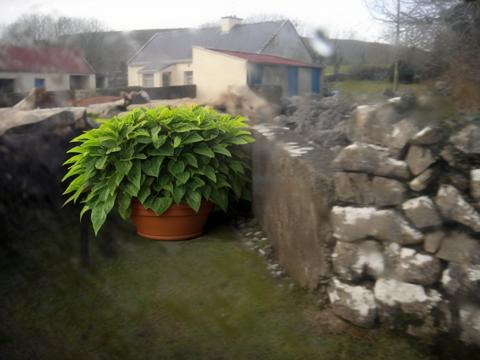cow: (2, 128, 151, 270)
pottedplant: (60, 105, 253, 241)
